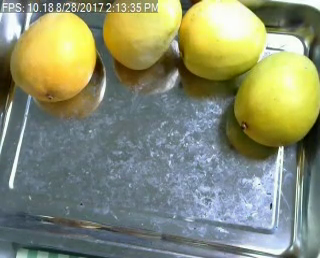Mango: (235, 49, 320, 147), (9, 11, 96, 99), (179, 0, 266, 80), (101, 0, 182, 70)
